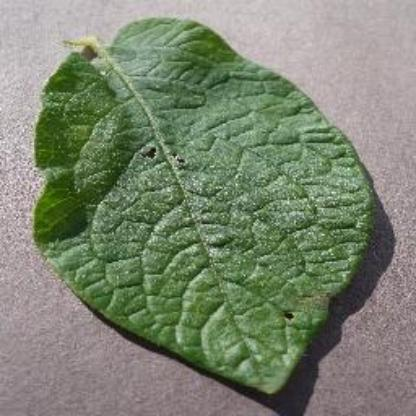Healthy-plant: (22, 17, 382, 397)
